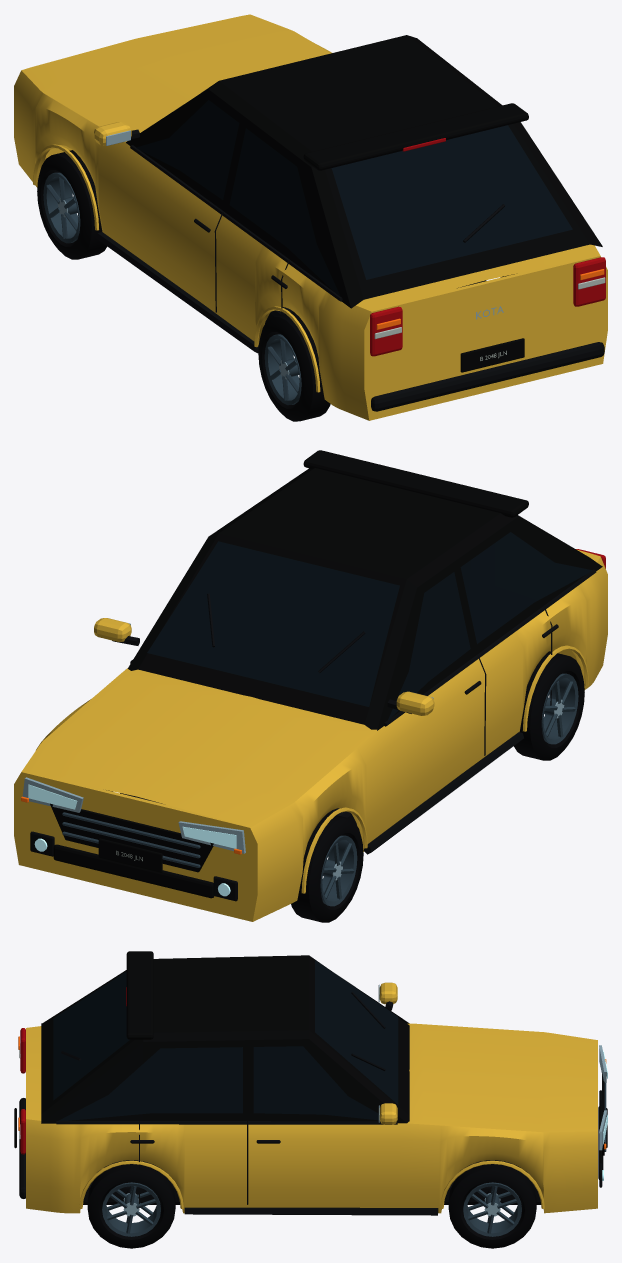
Rendered from Body.fbx.
3 views of the same model, one above another, from view 1: azimuth 30°, elevation 25°; view 2: azimuth 150°, elevation 25°; view 3: azimuth 270°, elevation 25° (orthographic). The views are drawn at different scales.
Parts seen in each view (by area): view 1: Body_Mesh, Wheel_RL_Mesh, Wheel_FL_Mesh, TailLights_Mesh; view 2: Body_Mesh, Wheel_FL_Mesh, Wheel_RL_Mesh, Headlights_Mesh; view 3: Body_Mesh, Wheel_FR_Mesh, Wheel_RR_Mesh, TailLights_Mesh, Headlights_Mesh.
Boxes of the visible parts, <box> form: Body_Mesh: <box>14,14,607,420</box>; Wheel_RL_Mesh: <box>258,312,330,421</box>; Wheel_FL_Mesh: <box>37,150,106,259</box>; TailLights_Mesh: <box>370,138,605,356</box>; Body_Mesh: <box>14,450,607,921</box>; Wheel_FL_Mesh: <box>291,813,363,922</box>; Wheel_RL_Mesh: <box>514,651,584,760</box>; Headlights_Mesh: <box>22,777,245,896</box>; Body_Mesh: <box>14,951,607,1215</box>; Wheel_FR_Mesh: <box>448,1164,536,1248</box>; Wheel_RR_Mesh: <box>87,1164,175,1248</box>; TailLights_Mesh: <box>19,987,126,1154</box>; Headlights_Mesh: <box>599,1045,607,1180</box>.
Size of the model in its own units: 210 by 149 by 396.
